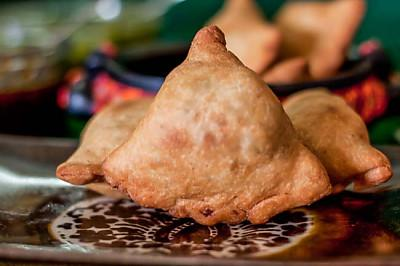samosa: (102, 26, 332, 225)
